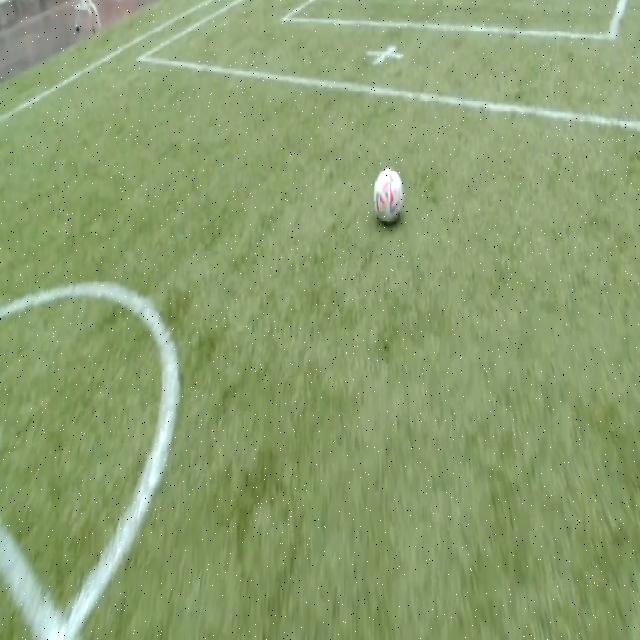ball: (374, 168, 404, 225)
